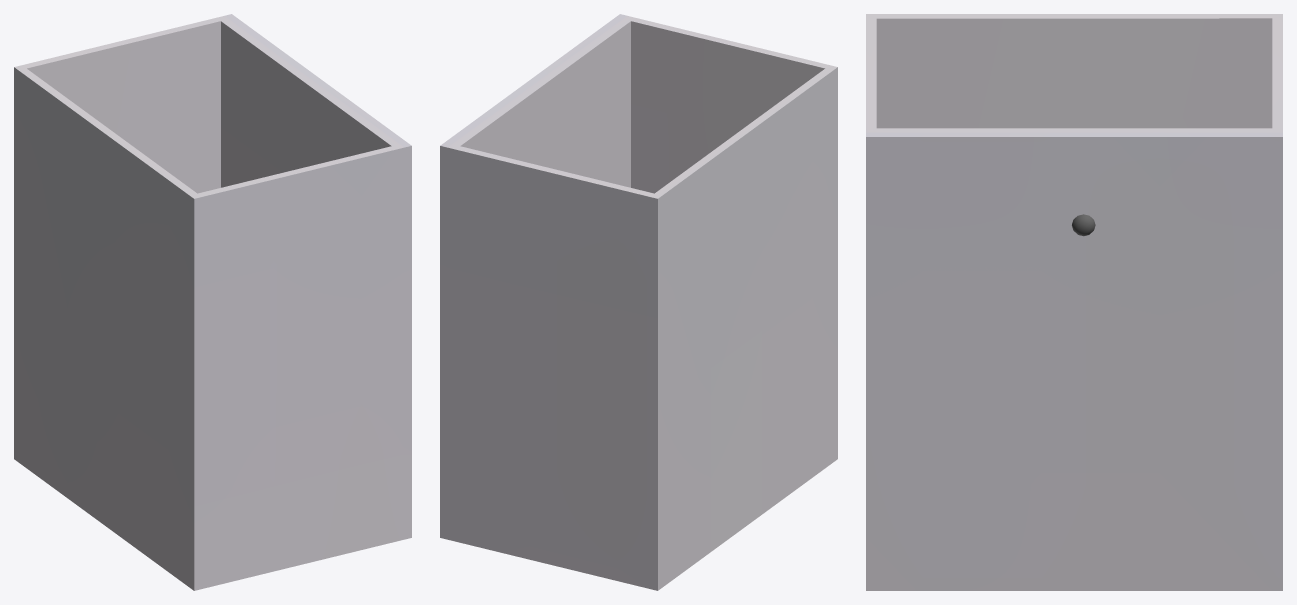
File: chestOfDrawers_DrawerBot.glb
3 renders of one model, left to right at view 1: azimuth 30°, elevation 25°; view 2: azimuth 150°, elevation 25°; view 3: azimuth 270°, elevation 25°, orthographic. The views are drawn at different scales.
Parts seen in each view (by area): view 1: RC_Furn_Dresser_Drawer5.001; view 2: RC_Furn_Dresser_Drawer5.001; view 3: RC_Furn_Dresser_Drawer5.001.
Part boxes in pixels (x1=…): RC_Furn_Dresser_Drawer5.001: x1=14, y1=14, x2=411, y2=590; RC_Furn_Dresser_Drawer5.001: x1=440, y1=14, x2=837, y2=590; RC_Furn_Dresser_Drawer5.001: x1=866, y1=14, x2=1282, y2=590.
Size of the model in its own units: 0.7216 by 1.2 by 0.9953.
Materials: 1 (1 with a texture image).
